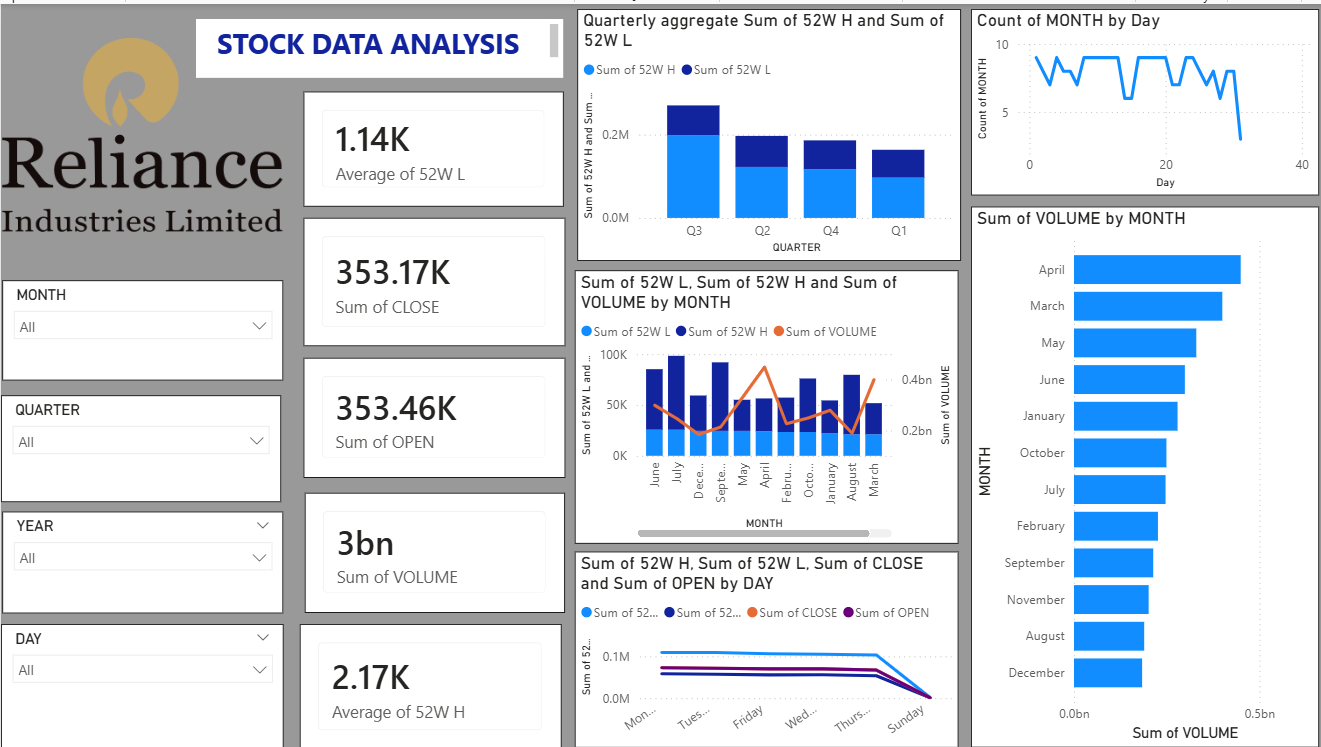

The dashboard page shown, as its layout file describes it:
{"tool":"powerbi","page":{"name":"Page 1","canvas":[1280,720],"ordinal":0},"visuals":[{"type":"slicer","fields":{"Values":["Quote-Equity-RELIANCE-EQ-10-06-2025-10-06-2026.DAY"]},"box":[0,598.6,272.9,121.4],"z":0},{"type":"slicer","fields":{"Values":["Quote-Equity-RELIANCE-EQ-10-06-2025-10-06-2026.MONTH"]},"box":[1.4,267.1,271.4,97.1],"z":1000},{"type":"slicer","fields":{"Values":["Quote-Equity-RELIANCE-EQ-10-06-2025-10-06-2026.QUARTER"]},"box":[0,377.1,270,102.9],"z":2000},{"type":"slicer","fields":{"Values":["Quote-Equity-RELIANCE-EQ-10-06-2025-10-06-2026.YEAR"]},"box":[1.4,490,271.4,98.6],"z":3000},{"type":"cardVisual","fields":{"Data":["Avg(Quote-Equity-RELIANCE-EQ-10-06-2025-10-06-2026.52W H)"]},"box":[288.6,598.6,252.9,121.4],"z":4000},{"type":"cardVisual","fields":{"Data":["Avg(Quote-Equity-RELIANCE-EQ-10-06-2025-10-06-2026.52W L)"]},"box":[291.4,84.3,251.4,111.4],"z":5000},{"type":"cardVisual","fields":{"Data":["Sum(Quote-Equity-RELIANCE-EQ-10-06-2025-10-06-2026.CLOSE)"]},"box":[291.4,205.7,252.9,124.3],"z":6000},{"type":"cardVisual","fields":{"Data":["Sum(Quote-Equity-RELIANCE-EQ-10-06-2025-10-06-2026.OPEN)"]},"box":[291.4,341.4,252.9,115.7],"z":7000},{"type":"cardVisual","fields":{"Data":["Sum(Quote-Equity-RELIANCE-EQ-10-06-2025-10-06-2026.VOLUME)"]},"box":[292.9,471.4,251.4,115.7],"z":8000},{"type":"columnChart","title":"Quarterly aggregate Sum of 52W H and Sum of 52W L ","fields":{"Y":["Sum(Quote-Equity-RELIANCE-EQ-10-06-2025-10-06-2026.52W H)","Sum(Quote-Equity-RELIANCE-EQ-10-06-2025-10-06-2026.52W L)"],"Category":["Quote-Equity-RELIANCE-EQ-10-06-2025-10-06-2026.QUARTER"]},"box":[555.7,4.3,370,242.9],"z":9000},{"type":"lineStackedColumnComboChart","fields":{"Y":["Sum(Quote-Equity-RELIANCE-EQ-10-06-2025-10-06-2026.52W L)","Sum(Quote-Equity-RELIANCE-EQ-10-06-2025-10-06-2026.52W H)"],"Y2":["Sum(Quote-Equity-RELIANCE-EQ-10-06-2025-10-06-2026.VOLUME)"],"Category":["Quote-Equity-RELIANCE-EQ-10-06-2025-10-06-2026.MONTH"]},"box":[554.3,257.1,370,264.3],"z":10000},{"type":"lineChart","fields":{"Category":["Quote-Equity-RELIANCE-EQ-10-06-2025-10-06-2026.DATE.Variation.Date Hierarchy.Day"],"Y":["CountNonNull(Quote-Equity-RELIANCE-EQ-10-06-2025-10-06-2026.MONTH)"]},"box":[935.7,4.3,335.7,180],"z":11000},{"type":"lineChart","fields":{"Y":["Sum(Quote-Equity-RELIANCE-EQ-10-06-2025-10-06-2026.52W H)","Sum(Quote-Equity-RELIANCE-EQ-10-06-2025-10-06-2026.52W L)","Sum(Quote-Equity-RELIANCE-EQ-10-06-2025-10-06-2026.CLOSE)","Sum(Quote-Equity-RELIANCE-EQ-10-06-2025-10-06-2026.OPEN)"],"Category":["Quote-Equity-RELIANCE-EQ-10-06-2025-10-06-2026.DAY"]},"box":[554.3,528.6,370,190],"z":12000},{"type":"barChart","fields":{"Category":["Quote-Equity-RELIANCE-EQ-10-06-2025-10-06-2026.MONTH"],"Y":["Sum(Quote-Equity-RELIANCE-EQ-10-06-2025-10-06-2026.VOLUME)"]},"box":[935.7,195.7,335.7,522.9],"z":13000},{"type":"image","box":[1.4,4.3,270,242.9],"z":14000},{"type":"textbox","box":[188.6,14.3,354.3,57.1],"z":15000}]}

Visuals, with their boxes in screenshot pixels (x1, y1, x2, y2), scaled from the page's 1280x720 canvas onto the 1321x747 screenshot:
slicer - Quote-Equity-RELIANCE-EQ-10-06-2025-10-06-2026.DAY: (0, 621, 282, 746)
slicer - Quote-Equity-RELIANCE-EQ-10-06-2025-10-06-2026.MONTH: (1, 277, 282, 378)
slicer - Quote-Equity-RELIANCE-EQ-10-06-2025-10-06-2026.QUARTER: (0, 391, 279, 498)
slicer - Quote-Equity-RELIANCE-EQ-10-06-2025-10-06-2026.YEAR: (1, 508, 282, 611)
cardVisual - Avg(Quote-Equity-RELIANCE-EQ-10-06-2025-10-06-2026.52W H): (298, 621, 559, 746)
cardVisual - Avg(Quote-Equity-RELIANCE-EQ-10-06-2025-10-06-2026.52W L): (301, 87, 560, 203)
cardVisual - Sum(Quote-Equity-RELIANCE-EQ-10-06-2025-10-06-2026.CLOSE): (301, 213, 562, 342)
cardVisual - Sum(Quote-Equity-RELIANCE-EQ-10-06-2025-10-06-2026.OPEN): (301, 354, 562, 474)
cardVisual - Sum(Quote-Equity-RELIANCE-EQ-10-06-2025-10-06-2026.VOLUME): (302, 489, 562, 609)
"Quarterly aggregate Sum of 52W H and Sum of 52W L " columnChart: (573, 4, 955, 256)
lineStackedColumnComboChart - Sum(Quote-Equity-RELIANCE-EQ-10-06-2025-10-06-2026.52W L) x Sum(Quote-Equity-RELIANCE-EQ-10-06-2025-10-06-2026.52W H): (572, 267, 954, 541)
lineChart - Quote-Equity-RELIANCE-EQ-10-06-2025-10-06-2026.DATE.Variation.Date Hierarchy.Day x CountNonNull(Quote-Equity-RELIANCE-EQ-10-06-2025-10-06-2026.MONTH): (966, 4, 1312, 191)
lineChart - Sum(Quote-Equity-RELIANCE-EQ-10-06-2025-10-06-2026.52W H) x Sum(Quote-Equity-RELIANCE-EQ-10-06-2025-10-06-2026.52W L): (572, 548, 954, 746)
barChart - Quote-Equity-RELIANCE-EQ-10-06-2025-10-06-2026.MONTH x Sum(Quote-Equity-RELIANCE-EQ-10-06-2025-10-06-2026.VOLUME): (966, 203, 1312, 746)
image: (1, 4, 280, 256)
textbox: (195, 15, 560, 74)
